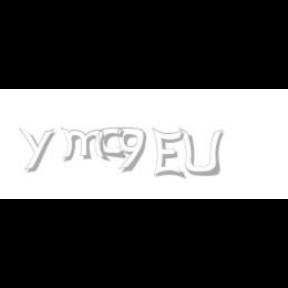9: (118, 128, 146, 172)
E: (152, 128, 184, 180)
U: (178, 128, 222, 178)
c: (98, 128, 128, 160)
m: (59, 128, 111, 162)
y: (19, 128, 59, 172)
